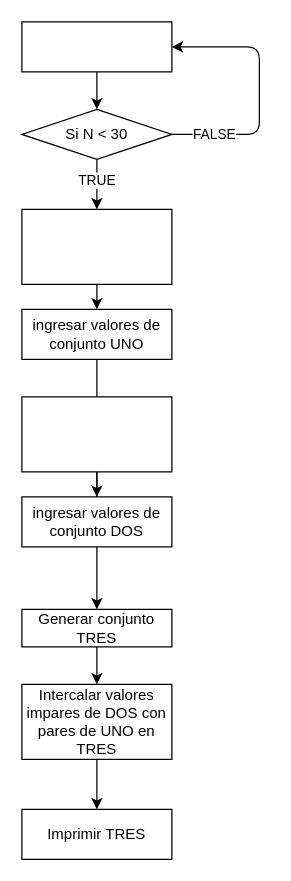
This 291x881 diagram has some shape labels left out. Each missing label, with the box of its shape:
Pedir cantidad de elementos para conjunto DOS: (21, 396, 172, 472)
Pedir cantidad de elementos para conjunto UNO: (21, 208, 172, 284)
Pedir valor enero < 30: (21, 21, 172, 72)
